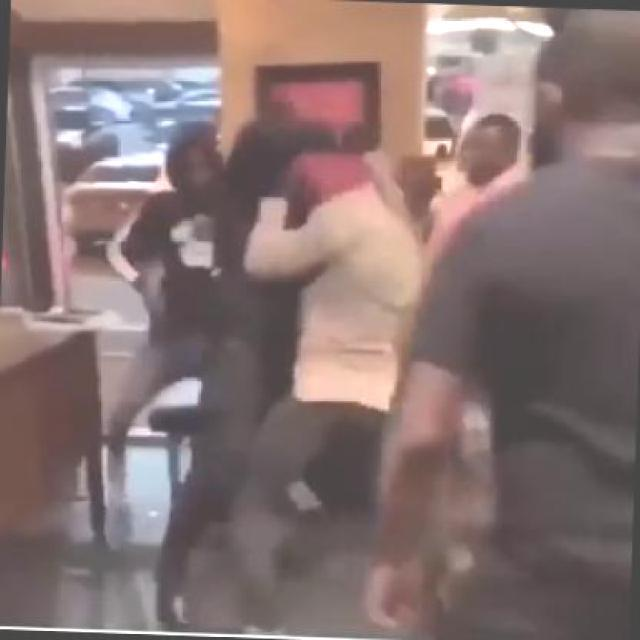fight: (204, 96, 428, 638)
